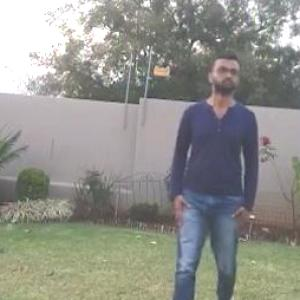follow: (158, 48, 259, 299)
